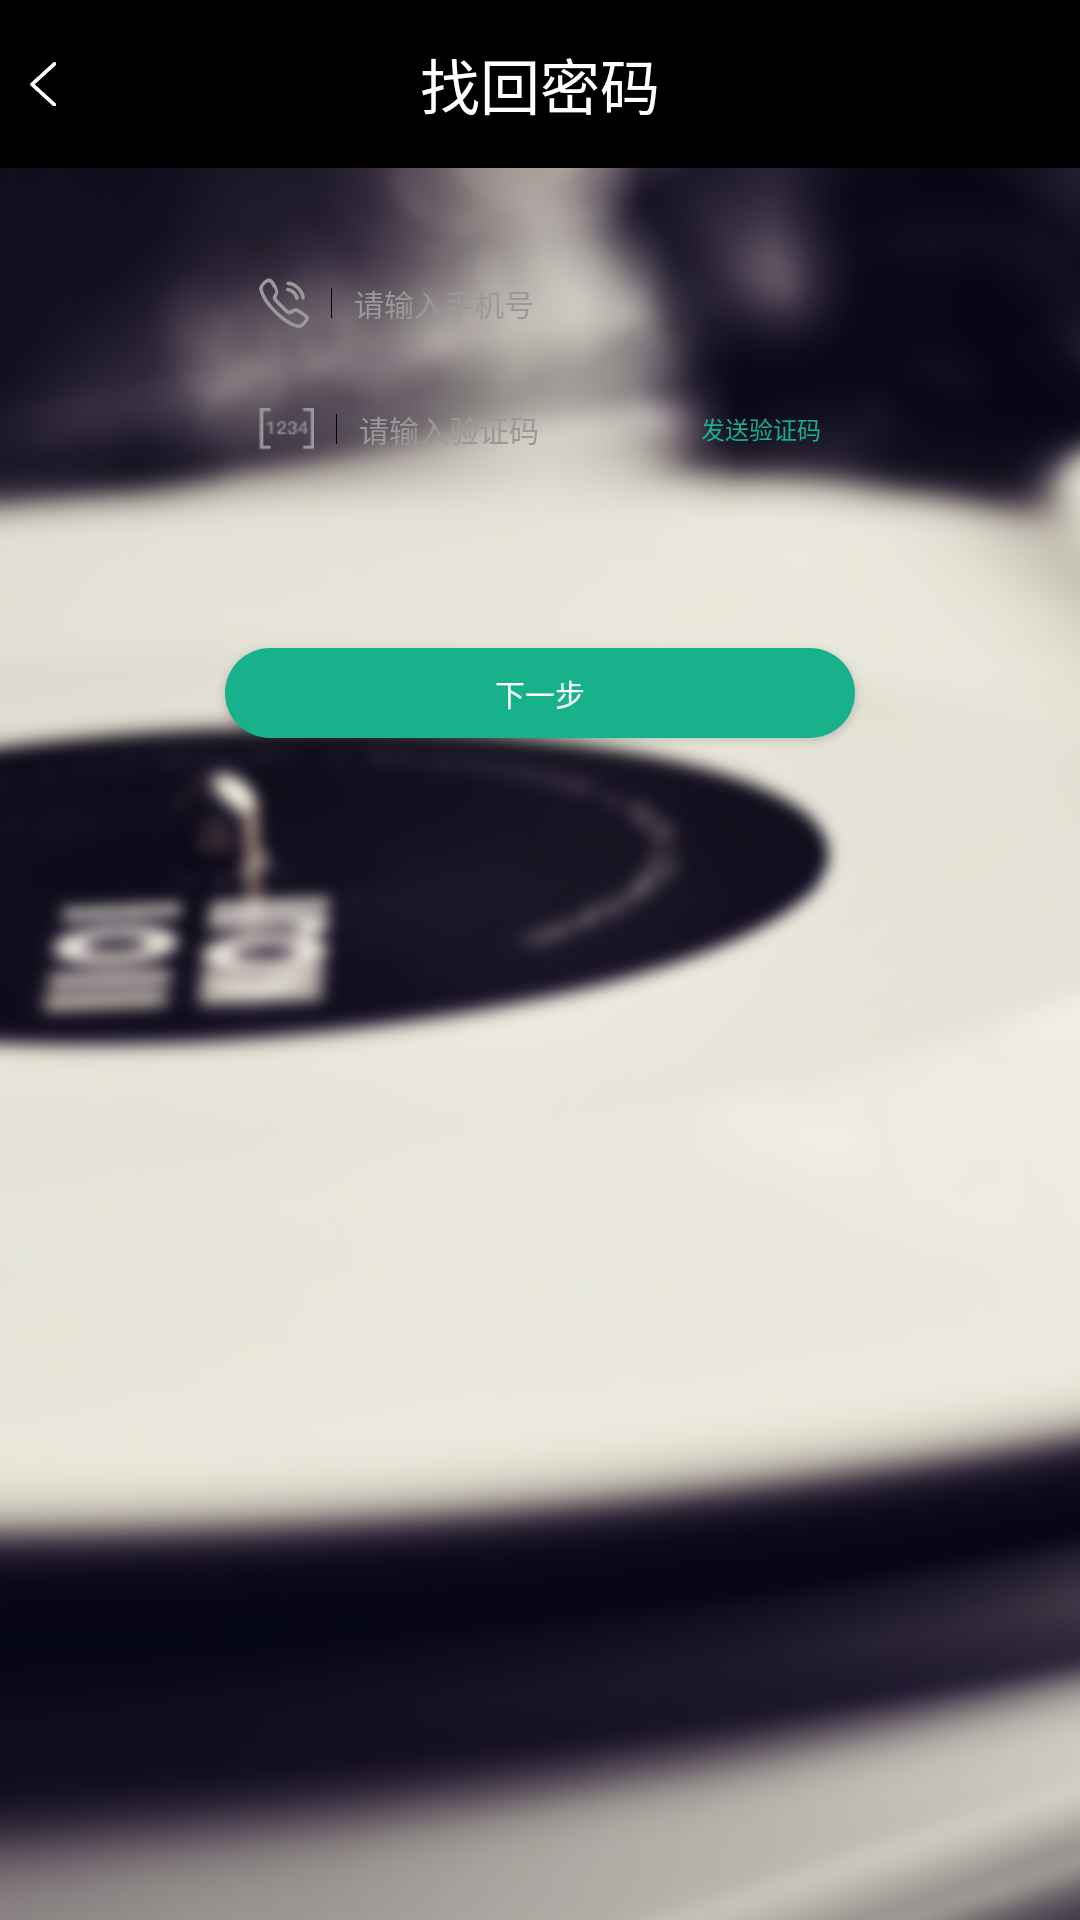

Named icons in this screenshot (1080 × 1920) and their centers, (x,y):
fanhui: (43,84)
shoujihao: (284,303)
yanzhengma: (286,428)
